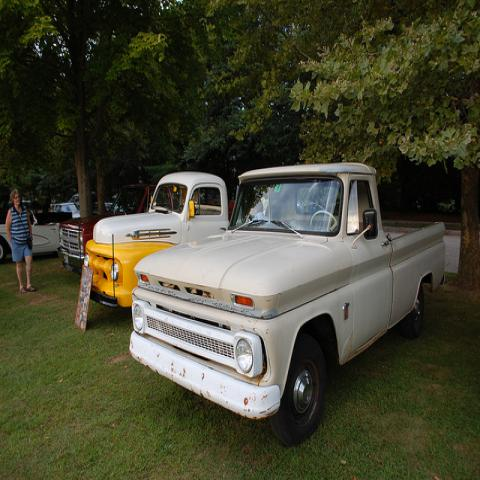car: (0, 204, 73, 264), (50, 202, 81, 220)
truck: (128, 162, 451, 441), (86, 170, 232, 310), (59, 183, 158, 276)
